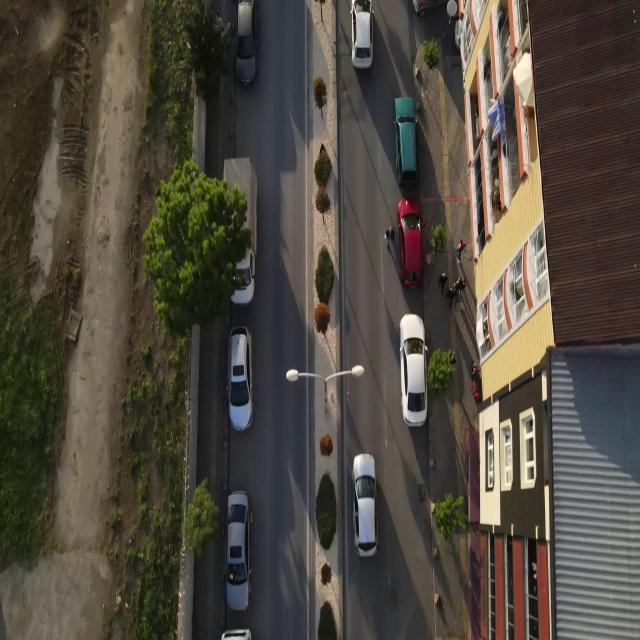p3rson: (454, 240, 466, 263), (446, 286, 456, 308), (438, 273, 448, 294), (386, 226, 395, 249), (214, 13, 224, 32), (454, 278, 463, 290), (460, 280, 466, 294)
